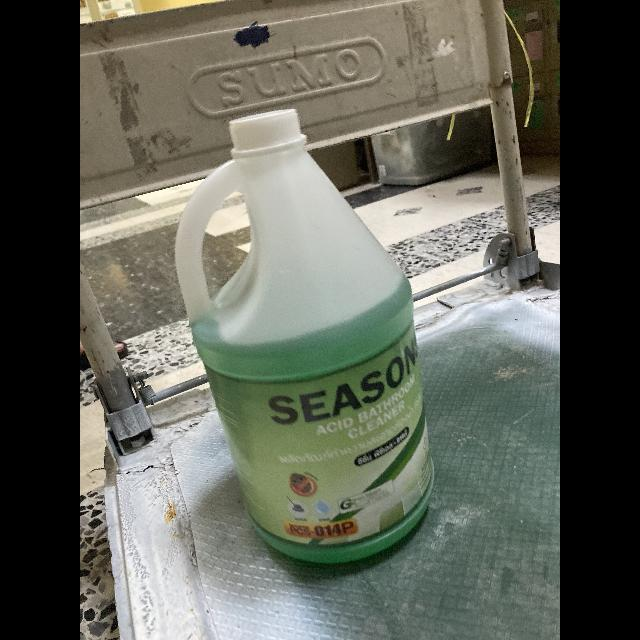chemical_plastic_gallon: (172, 105, 440, 570)
